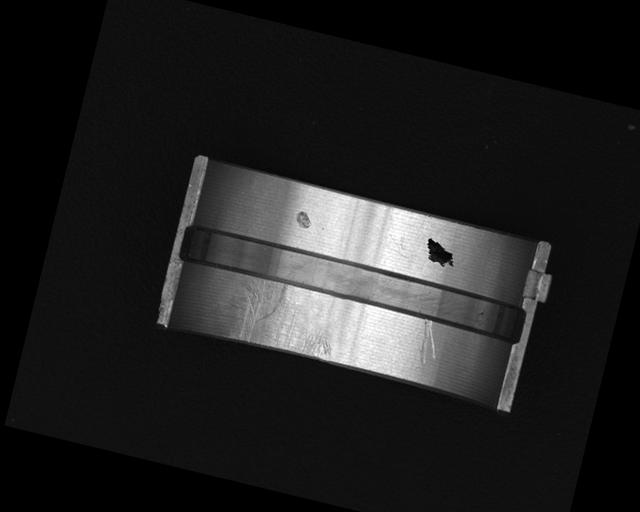blot: (421, 237, 458, 270)
bruise: (292, 208, 314, 230)
gap: (176, 221, 531, 344)
nick: (414, 319, 443, 367)
scratch: (216, 271, 343, 362)
